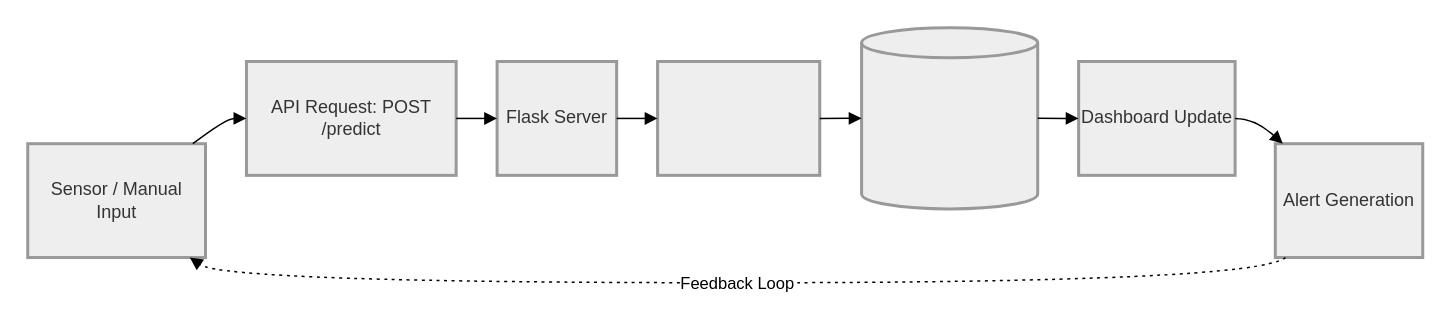
This 1449x318 diagram has some shape labels left out. The shapes that lost their labels are listed below. From the top down, each one's centre as x and y in pixels, then its label:
[737,117]: AI Model Prediction
[948,118]: Database: History + Latest State
